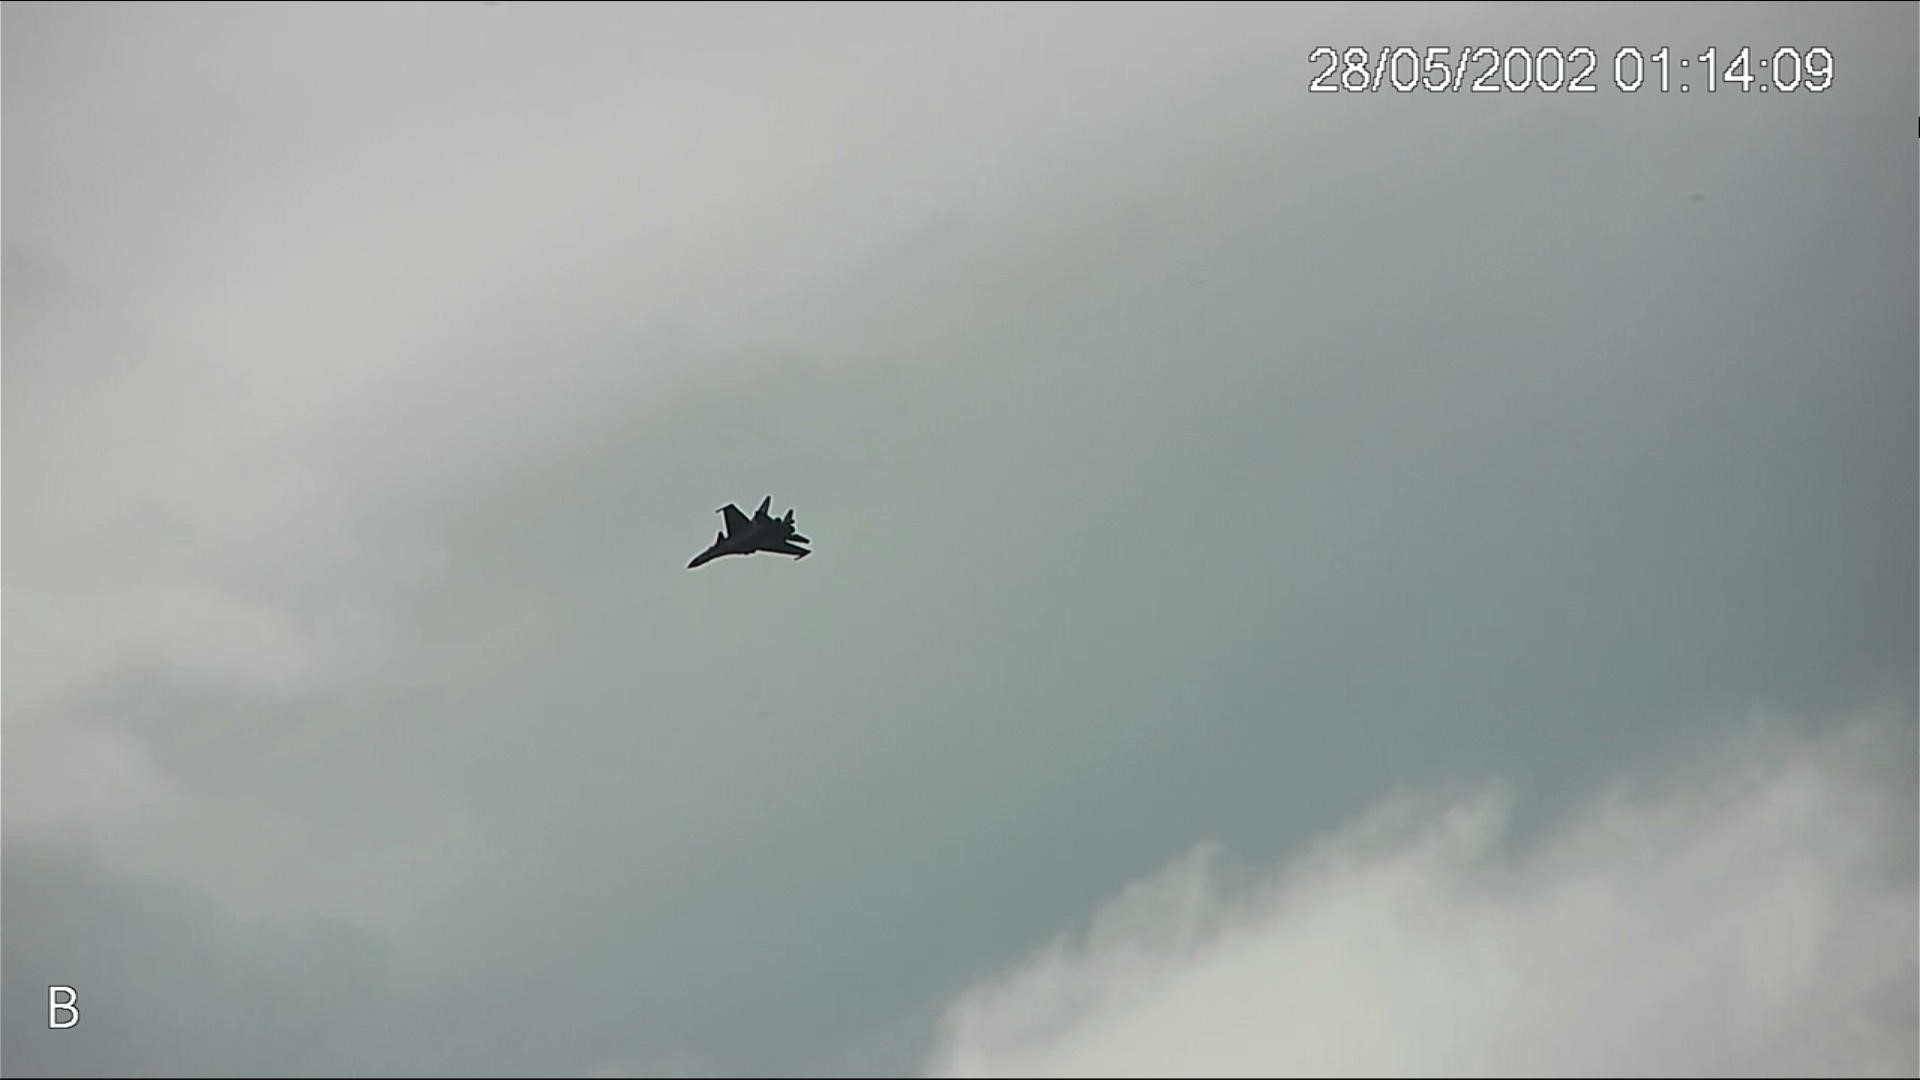SU_30: (683, 495, 818, 574)
